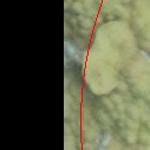alive: (67, 3, 149, 148)
